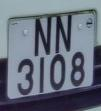0: (47, 53, 68, 95)
1: (36, 55, 50, 96)
3: (12, 54, 37, 100)
8: (68, 50, 87, 91)
N: (33, 12, 56, 60), (54, 13, 73, 56)
